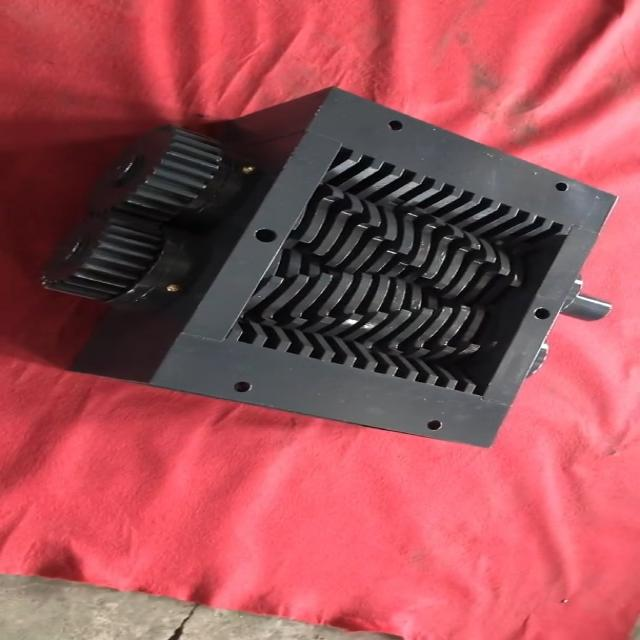Broyeur: (217, 141, 596, 415)
